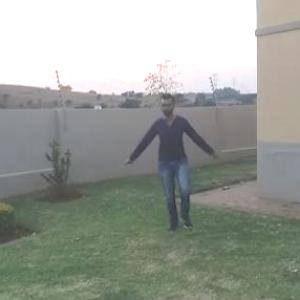land: (124, 92, 222, 245)
